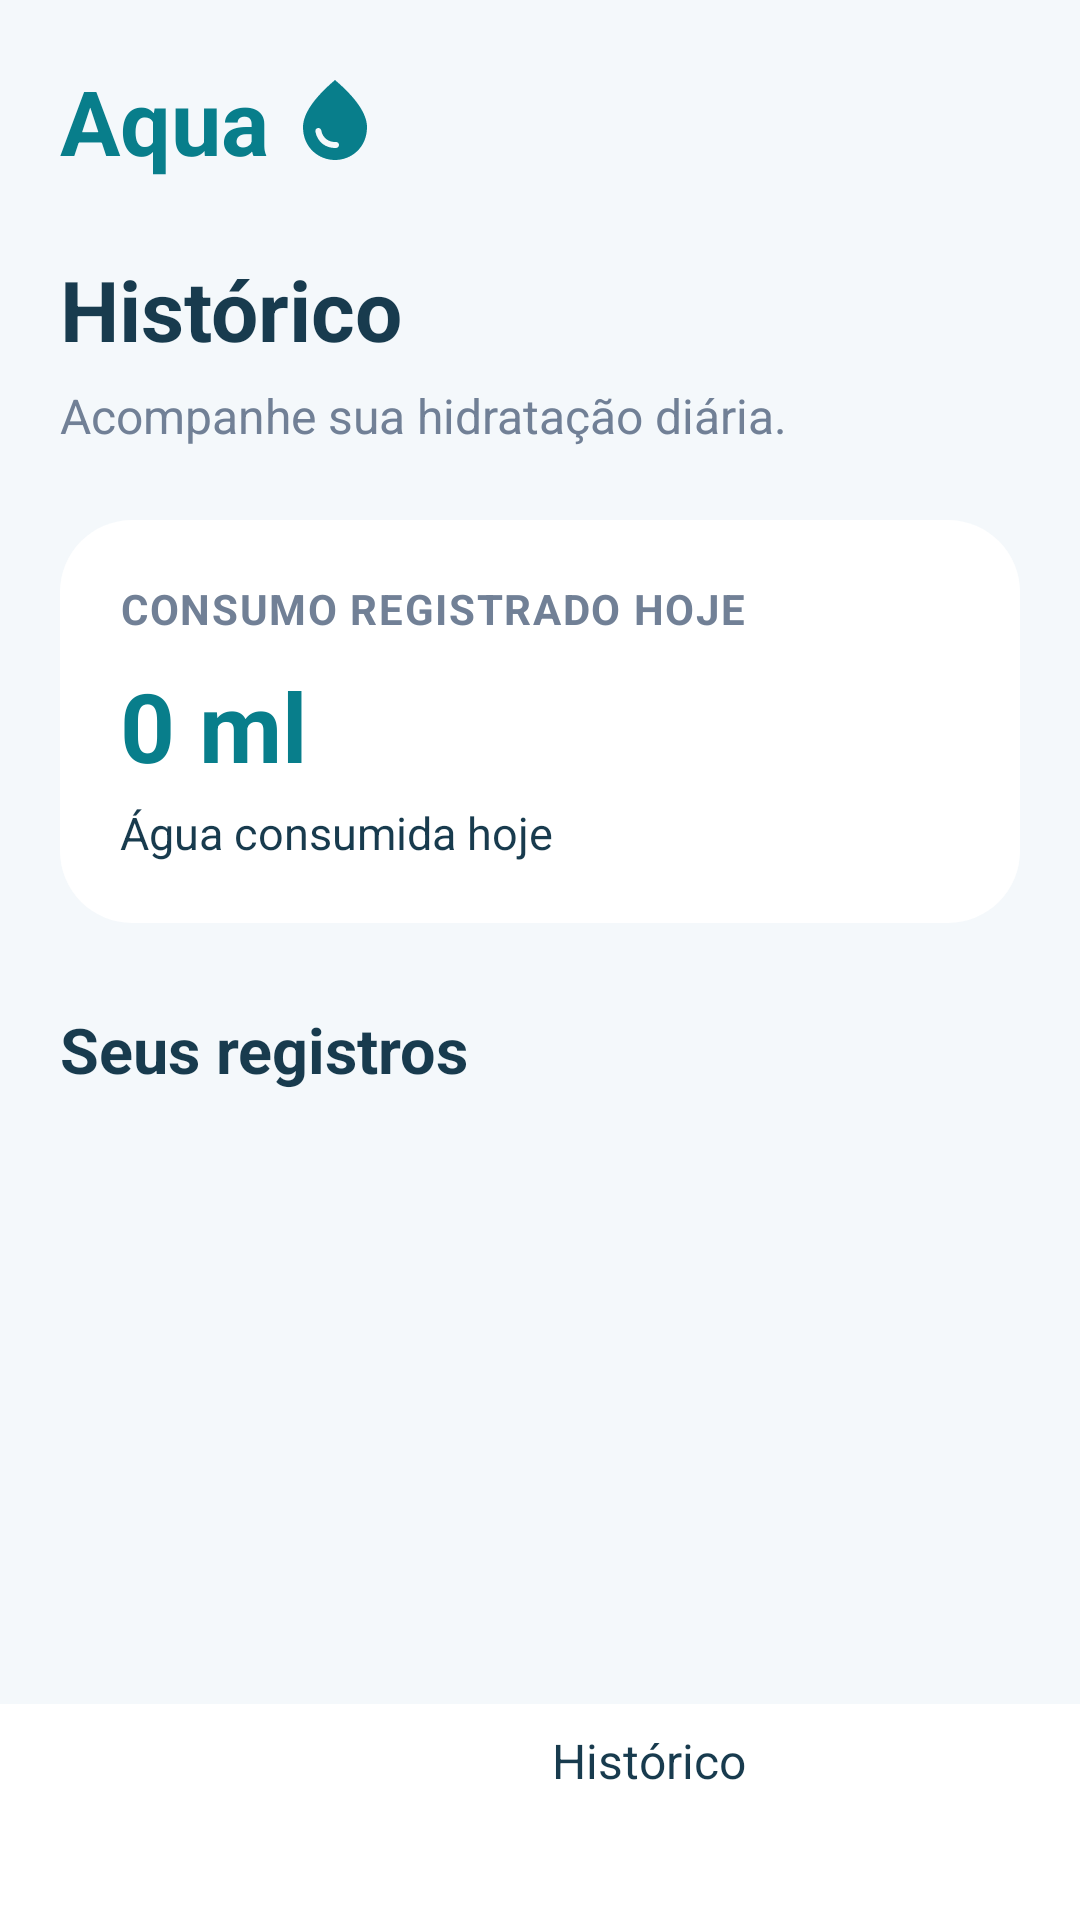

Where to tap for icons on this 1080*1920 app screen, as point (x, y):
Ícone de hidratação: point (335, 120)
